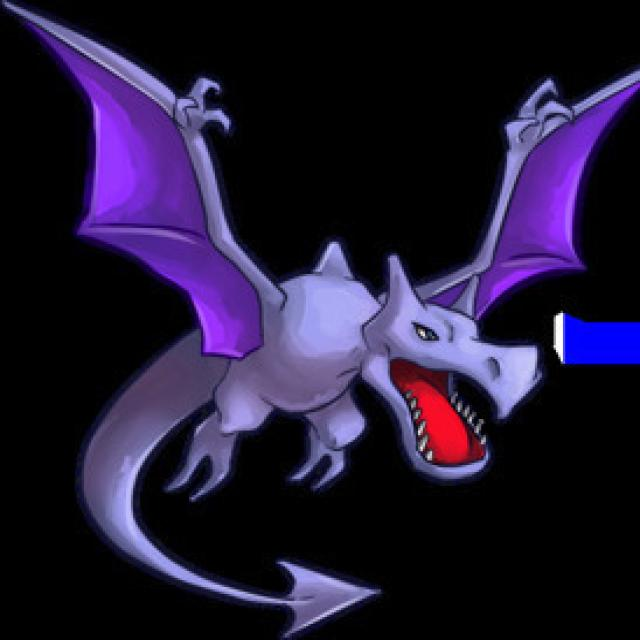Aerodactyl: (165, 71, 574, 488)
